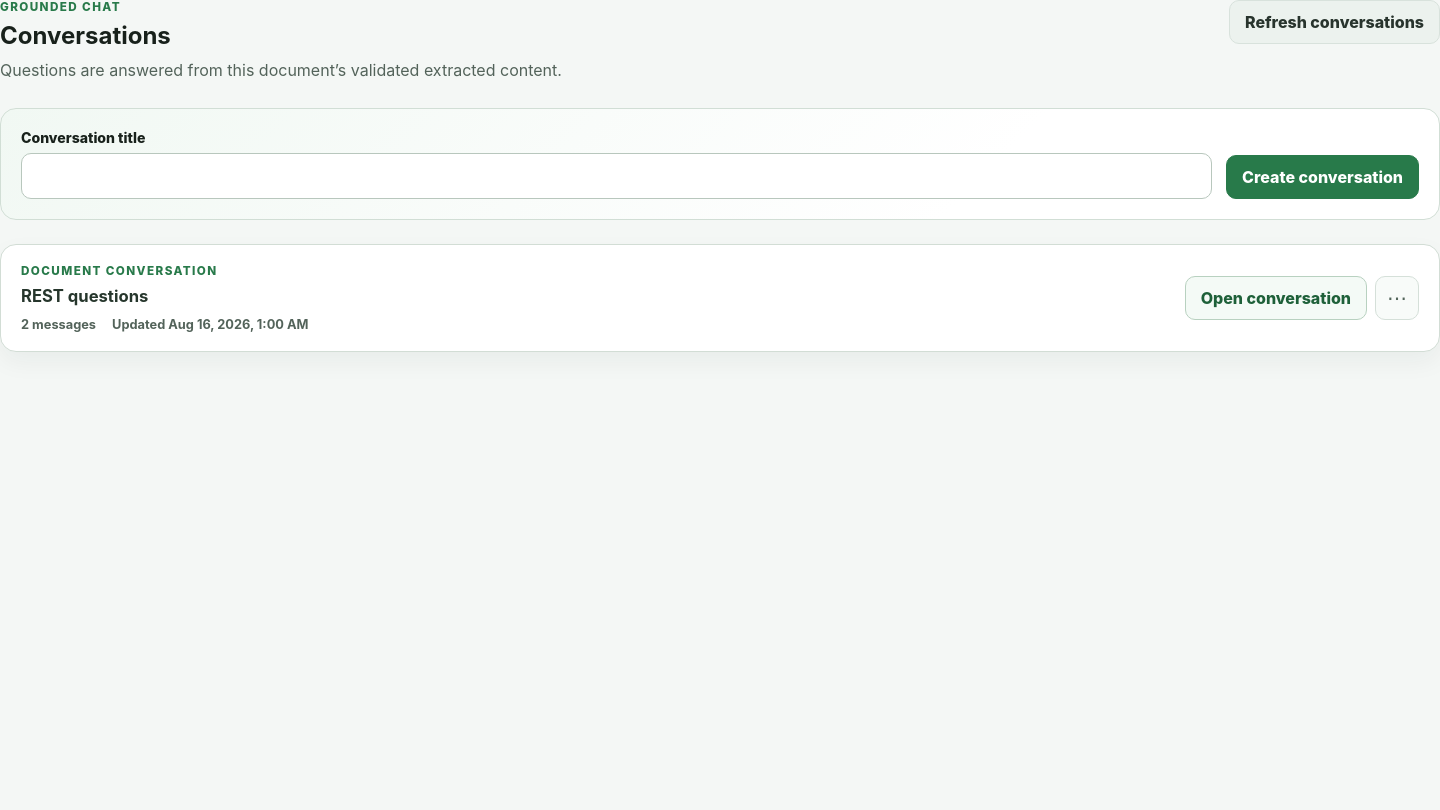
it: DocumentConversations child deletion › keeps Open conversation primary and refreshes the list after confirmed deletion
Expected: the link with aria-label "Open REST questions conversation" is shown, x1=1185 y1=276 x2=1367 y2=320
Step 1. Click the button named "More actions for REST questions" → (1397, 298), box x1=1375 y1=276 x2=1419 y2=320
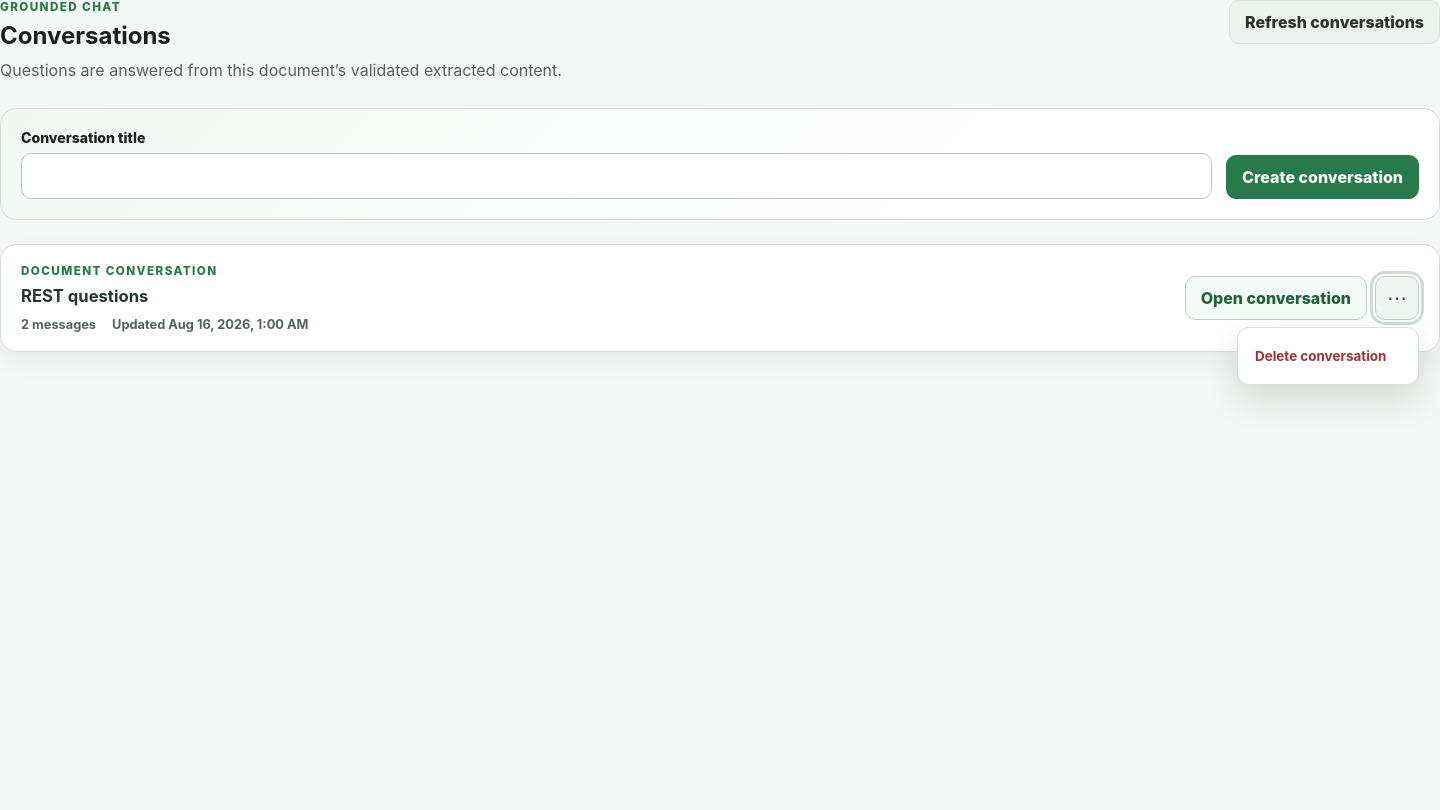
Step 2. Click the button "Delete conversation" → (1328, 356), box x1=1244 y1=334 x2=1412 y2=378
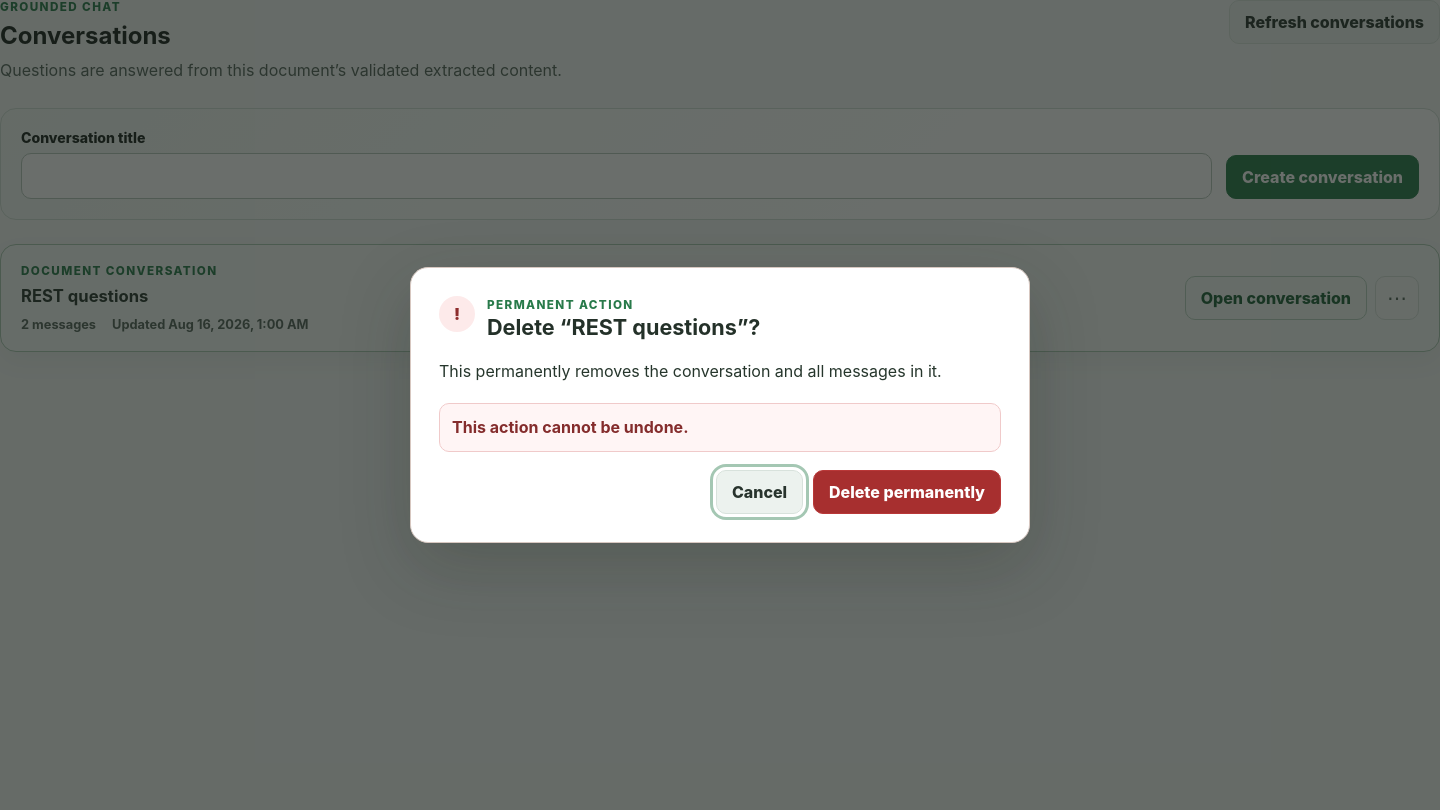
Step 3. Click the button "Delete permanently" → (907, 492), box x1=813 y1=470 x2=1001 y2=514
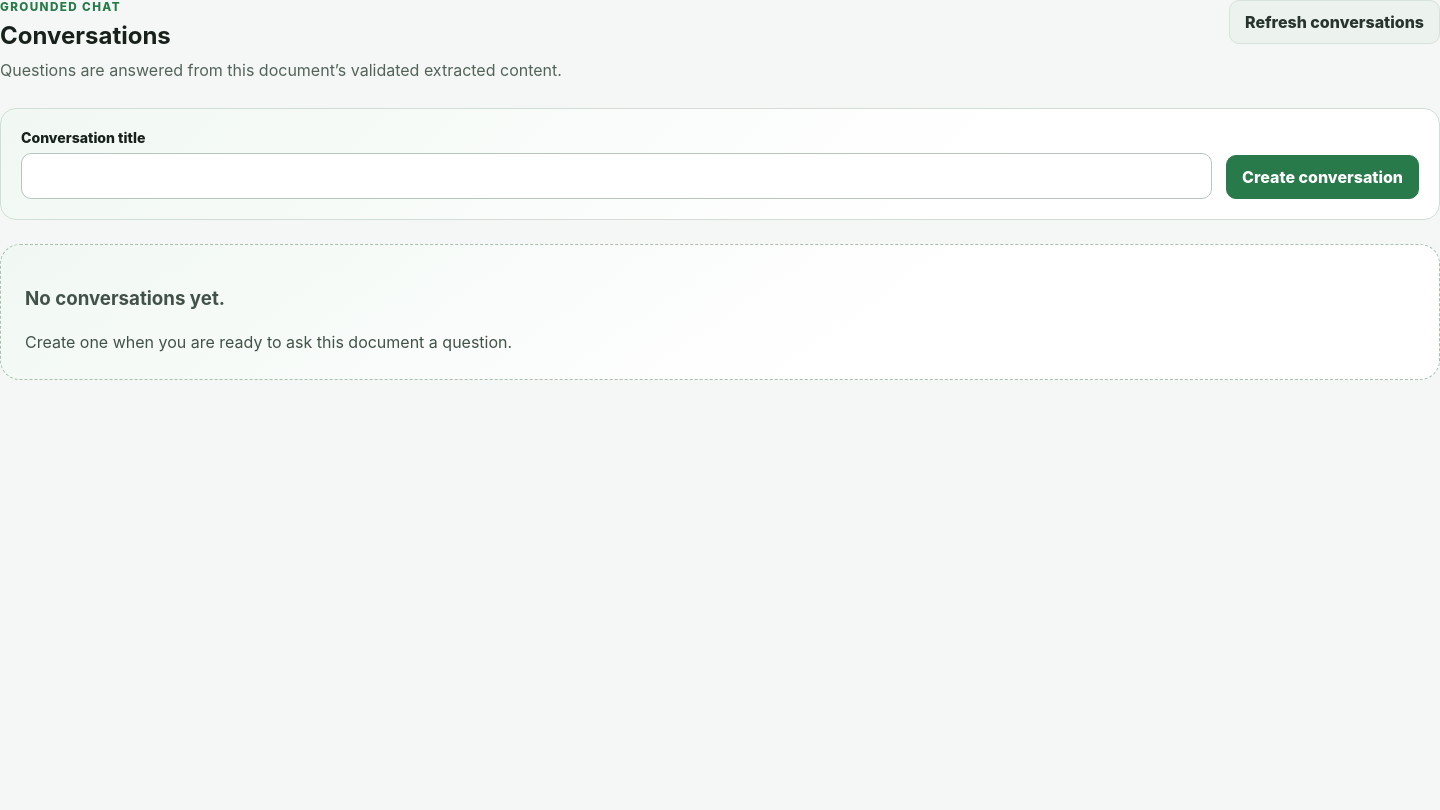
Expected: the heading "No conversations yet." is shown, x1=25 y1=287 x2=225 y2=310
